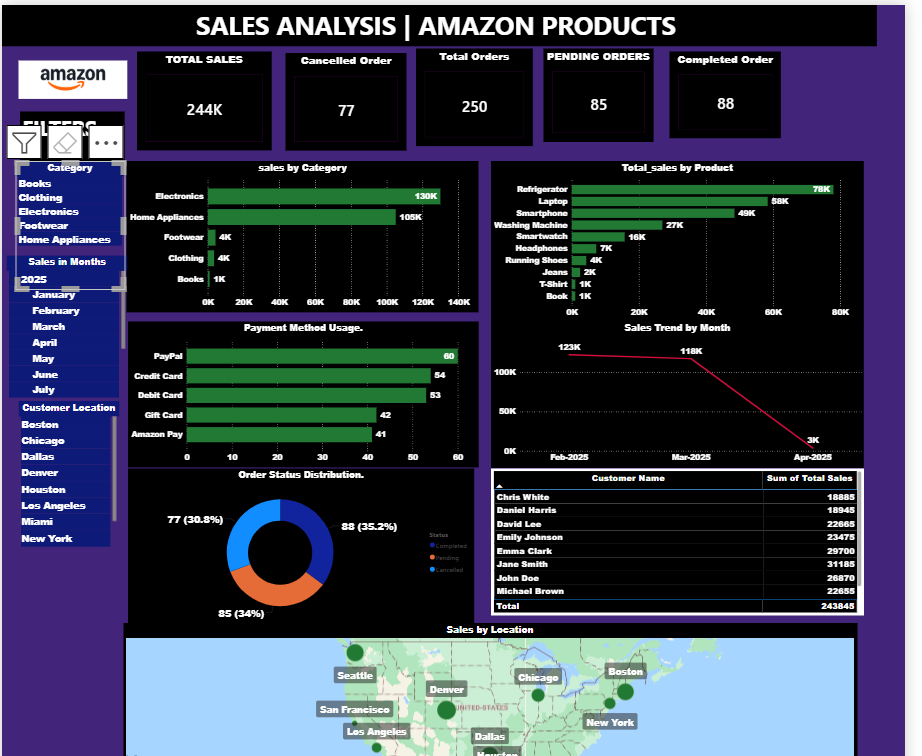

What the dashboard file says about the page in this screenshot:
{"tool":"powerbi","page":{"name":"Page 1","canvas":[1880,1720],"ordinal":0},"visuals":[{"type":"cardVisual","title":"TOTAL SALES","fields":{"Data":["amazon_sales_data 2025.Total_sales"]},"box":[280.8,97.4,280.8,206.3],"z":0},{"type":"cardVisual","title":"Total Orders","fields":{"Data":["amazon_sales_data 2025.Total Orders"]},"box":[862.5,91.7,243.6,203.4],"z":1},{"type":"cardVisual","title":"Completed Order","fields":{"Data":["amazon_sales_data 2025.Completed Orders"]},"box":[1389.8,97.4,232.1,180.5],"z":2},{"type":"cardVisual","title":"Cancelled Order","fields":{"Data":["amazon_sales_data 2025.Cancelled orders"]},"box":[590.3,100.3,252.2,203.4],"z":3},{"type":"cardVisual","title":"PENDING ORDERS","fields":{"Data":["amazon_sales_data 2025.Pending orders"]},"box":[1129,91.7,229.2,194.9],"z":4},{"type":"lineChart","title":"Sales Trend by Month","fields":{"Y":["Sum(amazon_sales_data 2025.Total Sales)"],"Category":["amazon_sales_data 2025.Month"]},"box":[1017.2,659.7,776.8,305.2],"z":5},{"type":"clusteredBarChart","title":"sales by Category","fields":{"Category":["amazon_sales_data 2025.Category"],"Y":["amazon_sales_data 2025.Total_sales"]},"box":[260.8,323.8,733.6,315.2],"z":6},{"type":"azureMap","title":"Sales by Location","fields":{"Category":["amazon_sales_data 2025.Customer Location"],"Size":["amazon_sales_data 2025.Total_sales"]},"box":[253.9,1288.2,1527.1,399.5],"z":7},{"type":"tableEx","fields":{"Values":["amazon_sales_data 2025.Customer Name","Sum(amazon_sales_data 2025.Total Sales)"]},"box":[1017.2,964.8,776.8,305.2],"z":8},{"type":"clusteredBarChart","fields":{"Category":["amazon_sales_data 2025.Product"],"Y":["amazon_sales_data 2025.Total_sales"]},"box":[1017.2,323.7,776.8,336],"z":10},{"type":"donutChart","title":"Order Status Distribution.","fields":{"Category":["amazon_sales_data 2025.Status"],"Y":["CountNonNull(amazon_sales_data 2025.Order ID)"]},"box":[262,964.8,721.3,323.7],"z":11},{"type":"clusteredBarChart","title":"Payment Method Usage.","fields":{"Category":["amazon_sales_data 2025.Payment Method"],"Y":["CountNonNull(amazon_sales_data 2025.Order ID)"]},"box":[263.6,659.1,730.7,303.7],"z":12},{"type":"listSlicer","title":"Sales in  Months","fields":{"Values":["amazon_sales_data 2025.Date.Variation.Date Hierarchy.Year","amazon_sales_data 2025.Date.Variation.Date Hierarchy.Month"]},"box":[8.6,521.5,252.2,303.7],"z":13},{"type":"listSlicer","fields":{"Values":["amazon_sales_data 2025.Category"]},"box":[28.7,323.8,226.4,269.4],"z":14},{"type":"listSlicer","fields":{"Values":["amazon_sales_data 2025.Customer Location"]},"box":[34.4,825.3,209.2,315.2],"z":15},{"type":"textbox","box":[0,0,1822.4,86],"z":16},{"type":"image","box":[34.4,114.6,226.4,80.2],"z":17},{"type":"textbox","box":[37.3,220.6,217.8,103.2],"z":18}]}

Visuals, with their boxes on the page's 1880x1720 design canvas (x1, y1, x2, y2). These are canvas units, not pixel positions in the 922x756 screenshot, which may show the page scaled, cropped or inside an application window:
"TOTAL SALES" cardVisual: select_region(281, 97, 562, 304)
"Total Orders" cardVisual: select_region(862, 92, 1106, 295)
"Completed Order" cardVisual: select_region(1390, 97, 1622, 278)
"Cancelled Order" cardVisual: select_region(590, 100, 842, 304)
"PENDING ORDERS" cardVisual: select_region(1129, 92, 1358, 287)
"Sales Trend by Month" lineChart: select_region(1017, 660, 1794, 965)
"sales by Category" clusteredBarChart: select_region(261, 324, 994, 639)
"Sales by Location" azureMap: select_region(254, 1288, 1781, 1688)
tableEx - amazon_sales_data 2025.Customer Name x Sum(amazon_sales_data 2025.Total Sales): select_region(1017, 965, 1794, 1270)
clusteredBarChart - amazon_sales_data 2025.Product x amazon_sales_data 2025.Total_sales: select_region(1017, 324, 1794, 660)
"Order Status Distribution." donutChart: select_region(262, 965, 983, 1288)
"Payment Method Usage." clusteredBarChart: select_region(264, 659, 994, 963)
"Sales in  Months" listSlicer: select_region(9, 522, 261, 825)
listSlicer - amazon_sales_data 2025.Category: select_region(29, 324, 255, 593)
listSlicer - amazon_sales_data 2025.Customer Location: select_region(34, 825, 244, 1140)
textbox: select_region(0, 0, 1822, 86)
image: select_region(34, 115, 261, 195)
textbox: select_region(37, 221, 255, 324)
